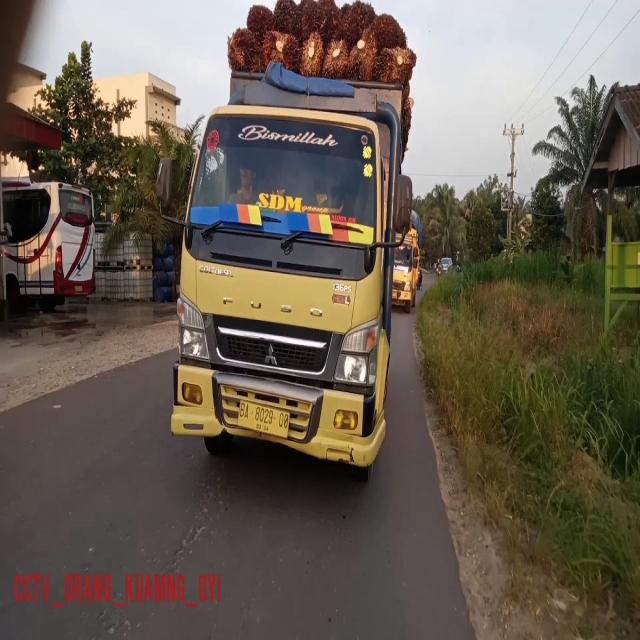truck: (160, 1, 415, 472)
